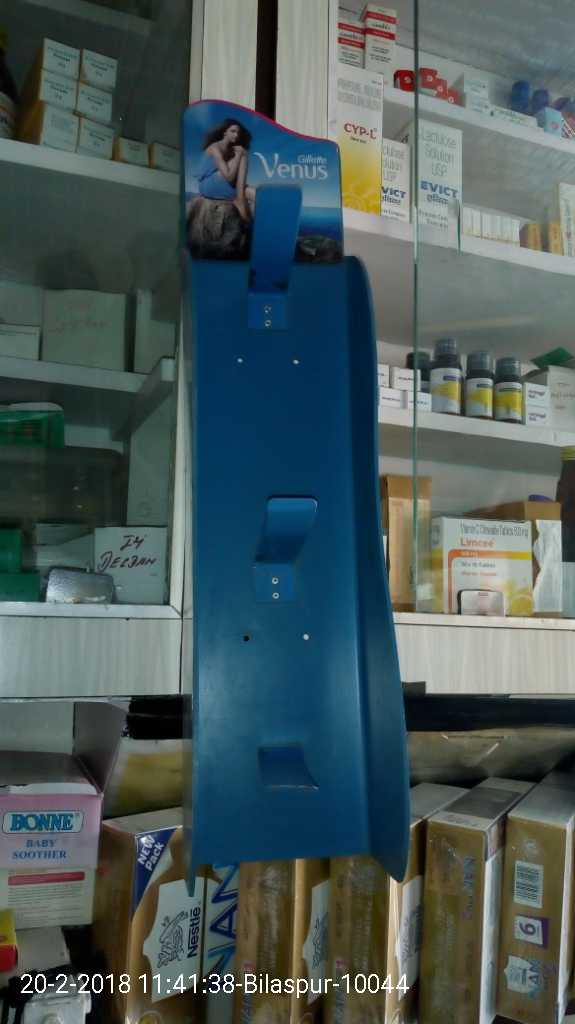reject: (281, 380, 348, 446)
